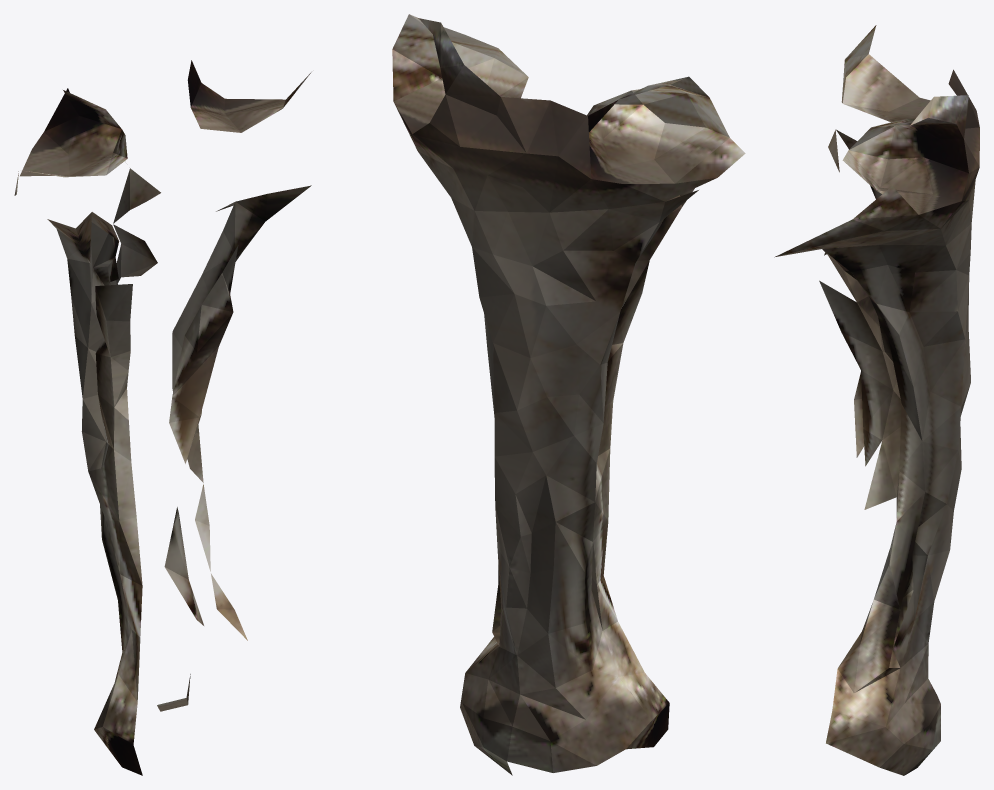
The model's file is femur.glb.
3 views of the same model, side by side, from view 1: azimuth 30°, elevation 25°; view 2: azimuth 150°, elevation 25°; view 3: azimuth 270°, elevation 25° (orthographic). The views are drawn at different scales.
Parts seen in each view (by area): view 1: geometry_0; view 2: geometry_0; view 3: geometry_0.
Boxes of the visible parts, x1,y1,x2,y2 form: geometry_0: (14,60,311,775); geometry_0: (392,14,745,775); geometry_0: (774,25,979,775).
Bounding box in the file's own units: 0.2107 × 0.4431 × 0.118.
1 material, 1 textured.
